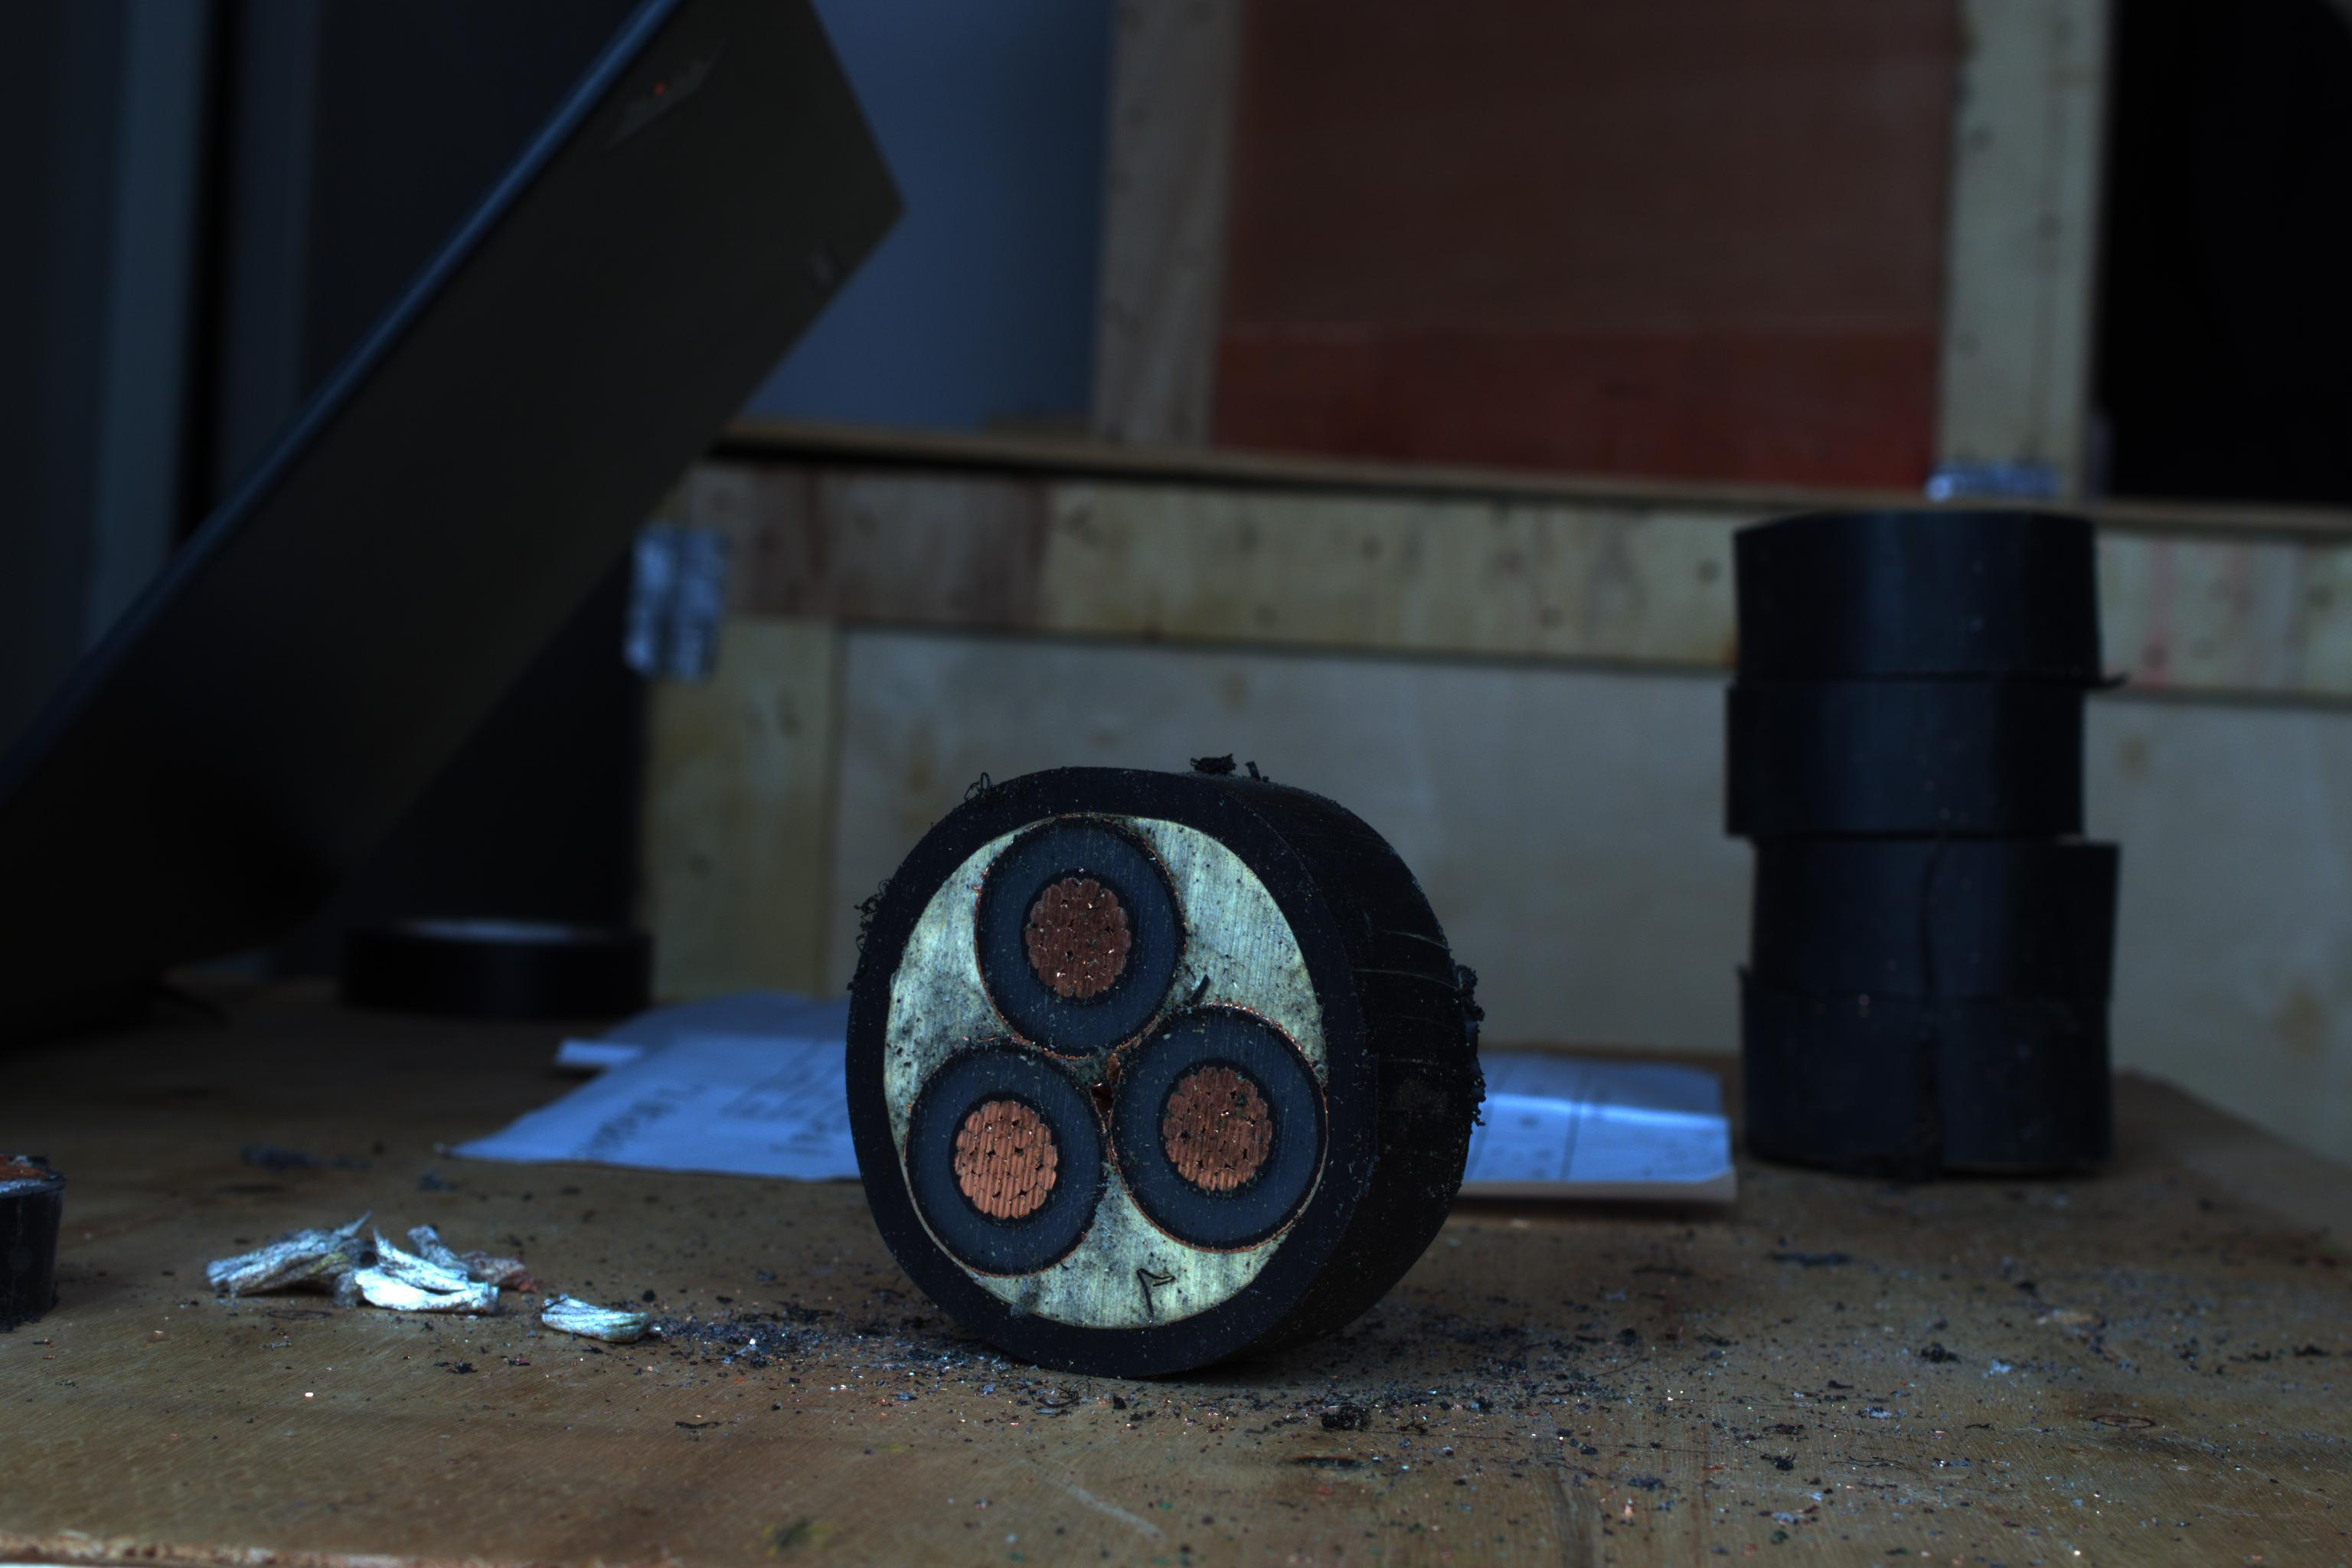ZA_YJV_8.7_10kV_3x120: (845, 808, 1377, 1318)
